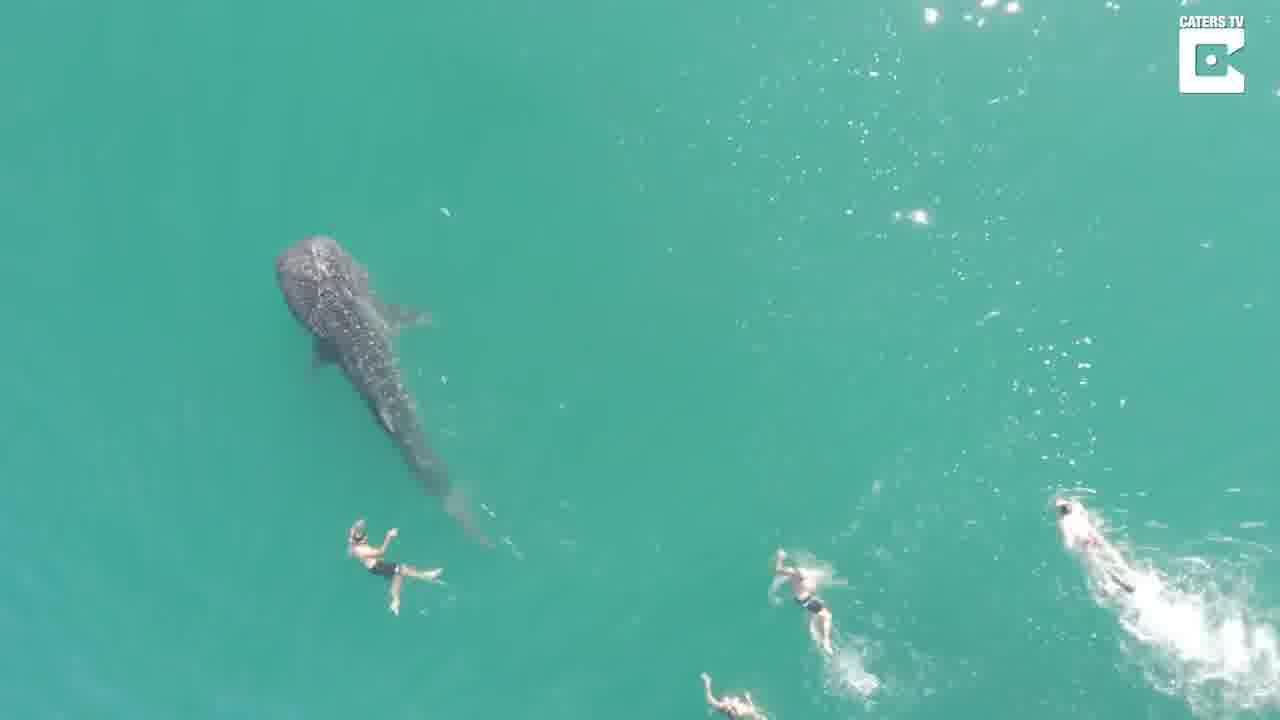swimmer: (343, 512, 445, 621), (774, 543, 842, 652), (698, 673, 796, 714)
